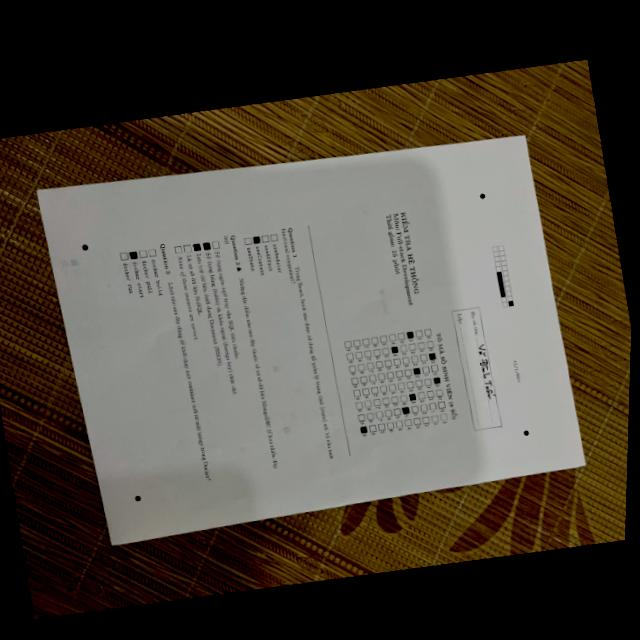Markers: (133, 494, 142, 502), (81, 242, 89, 251), (479, 191, 486, 199), (523, 429, 530, 437)
